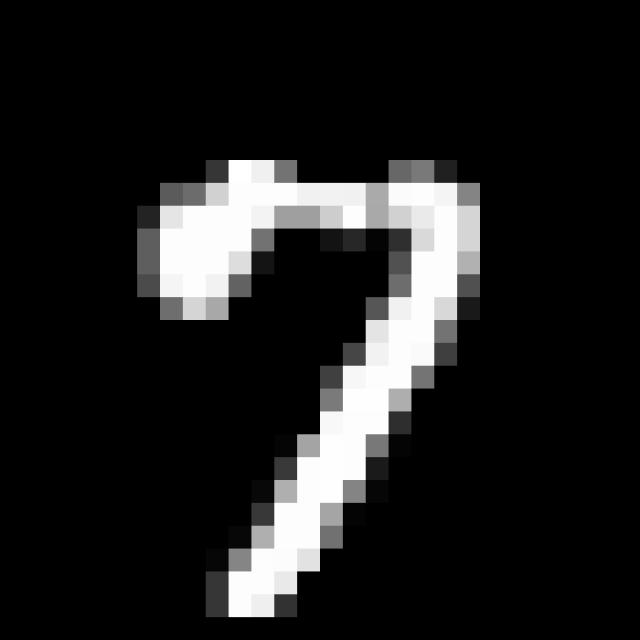seven -7-: (135, 151, 492, 631)
